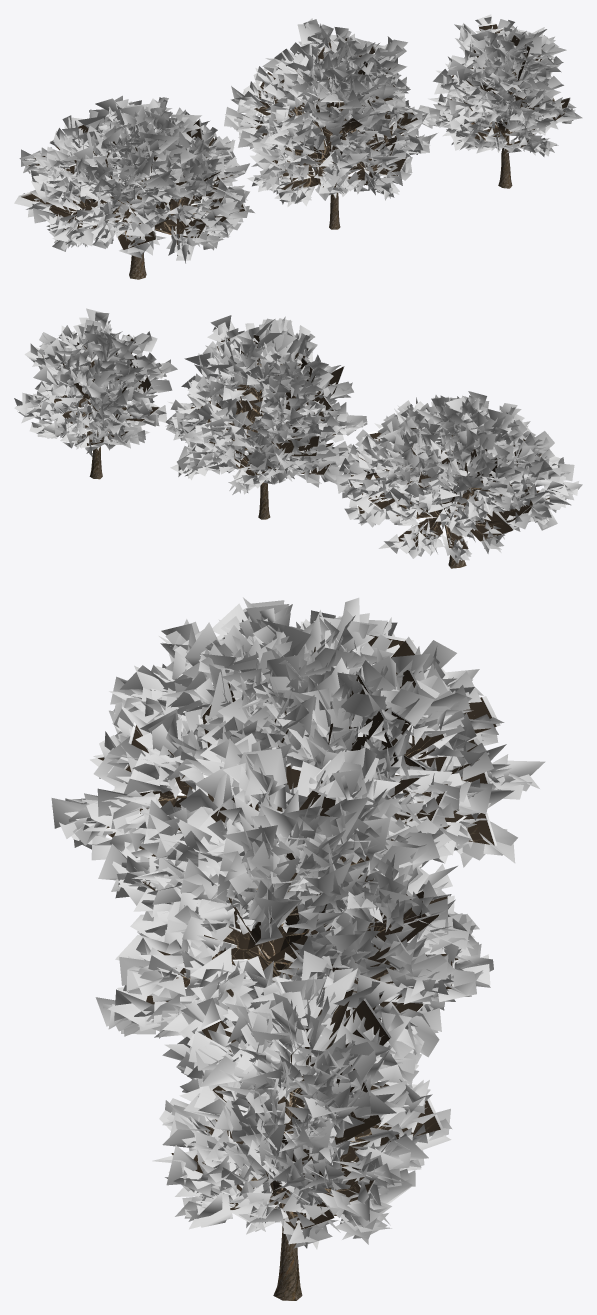
Rendered from Sketchfab_2022_09_21_06_15_37.fbx.
3 views of the same model, one above another, from view 1: azimuth 30°, elevation 25°; view 2: azimuth 150°, elevation 25°; view 3: azimuth 270°, elevation 25° (orthographic). The views are drawn at different scales.
Parts seen in each view (by area): view 1: Leaf_6, Bark_9; view 2: Leaf_6, Bark_9; view 3: Leaf_6, Bark_9.
Boxes of the visible parts, left/top/right/bottom form: Leaf_6: left=14, top=14, right=582, bottom=263; Bark_9: left=117, top=79, right=521, bottom=279; Leaf_6: left=14, top=308, right=582, bottom=563; Bark_9: left=84, top=364, right=531, bottom=568; Leaf_6: left=51, top=597, right=545, bottom=1249; Bark_9: left=177, top=795, right=389, bottom=1300.
Size of the model in its own units: 21646 by 7500 by 8764.
